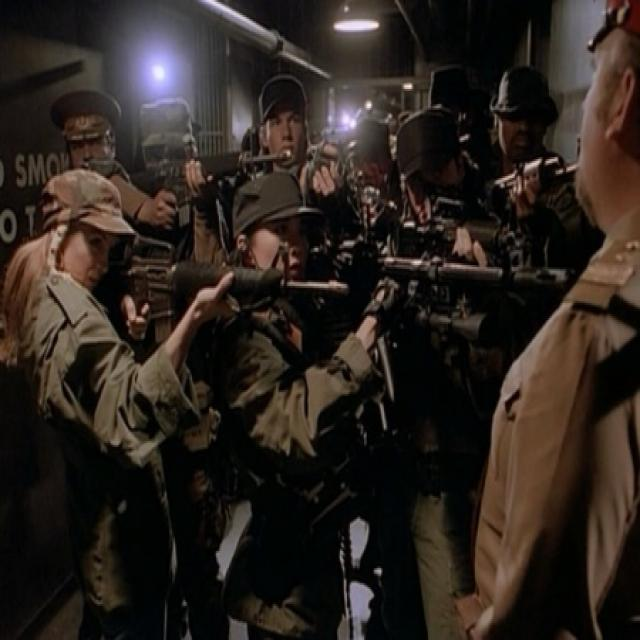rifle: (128, 243, 360, 328)
